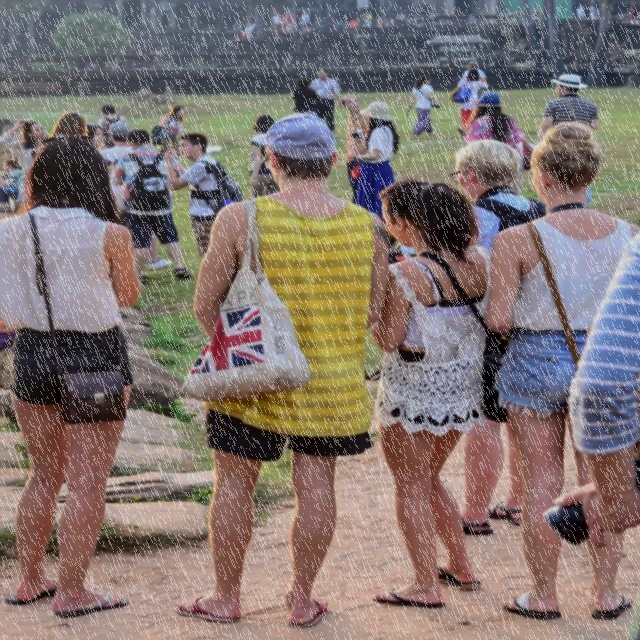pessoa: (172, 114, 394, 630), (482, 122, 640, 619), (0, 133, 149, 622), (358, 173, 514, 613), (448, 138, 550, 538), (556, 222, 640, 551), (112, 128, 194, 284), (96, 121, 174, 271), (162, 130, 236, 253), (463, 91, 534, 197), (349, 101, 401, 225), (536, 73, 600, 142), (0, 117, 47, 203), (339, 94, 369, 204), (449, 69, 491, 139), (247, 114, 281, 200), (308, 68, 344, 134), (406, 75, 436, 138), (1, 118, 24, 184), (157, 105, 185, 158), (96, 104, 128, 149), (120, 42, 166, 70), (0, 160, 23, 212), (292, 78, 320, 117), (49, 111, 88, 138), (460, 60, 488, 82), (86, 123, 106, 151), (242, 18, 258, 44), (574, 4, 603, 18), (628, 3, 640, 28), (284, 11, 296, 34), (270, 12, 282, 34), (302, 10, 312, 34), (350, 16, 361, 36), (300, 11, 309, 34), (237, 22, 247, 40), (280, 14, 288, 34), (363, 11, 373, 27), (335, 18, 345, 31), (349, 18, 358, 32), (376, 15, 384, 28), (359, 10, 366, 24)
